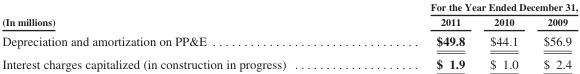table: (1, 0, 577, 70)
table column: (1, 0, 357, 70), (357, 0, 476, 70), (476, 0, 530, 70), (530, 0, 577, 70)
table column header: (1, 0, 577, 30)
table row: (1, 30, 577, 52), (1, 52, 577, 70), (1, 14, 577, 30), (1, 0, 577, 14)
table spanning cell: (1, 0, 357, 30), (357, 0, 577, 14)
